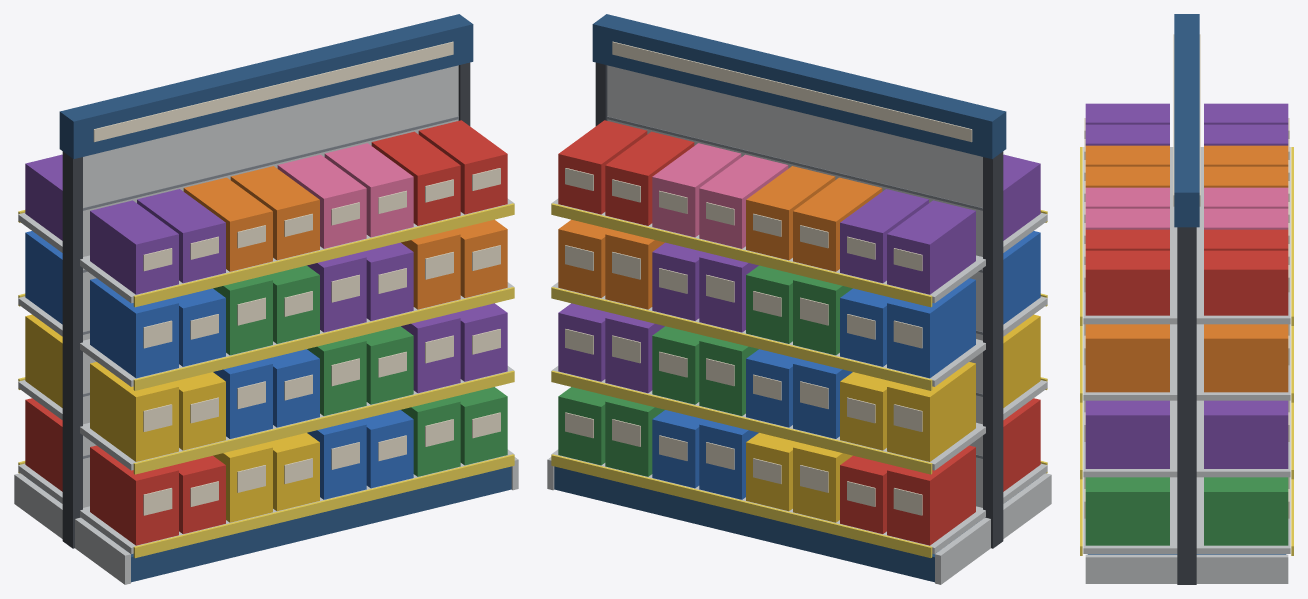
File: Aisle_Shelf_Cereal_2m.glb
The picture shows the model from 3 angles, left to right: view 1: azimuth 30°, elevation 25°; view 2: azimuth 150°, elevation 25°; view 3: azimuth 270°, elevation 25°; orthographic projection. The views are drawn at different scales.
Visible parts, largest first — view 1: Aisle_Shelf_Cereal_2m; view 2: Aisle_Shelf_Cereal_2m; view 3: Aisle_Shelf_Cereal_2m.
Part boxes in pixels (left/top/right/bottom): Aisle_Shelf_Cereal_2m: left=14, top=14, right=518, bottom=584; Aisle_Shelf_Cereal_2m: left=547, top=14, right=1051, bottom=584; Aisle_Shelf_Cereal_2m: left=1080, top=14, right=1293, bottom=584.
Size of the model in its own units: 2 by 2.05 by 1.01.
Materials: 1 (1 with a texture image).
